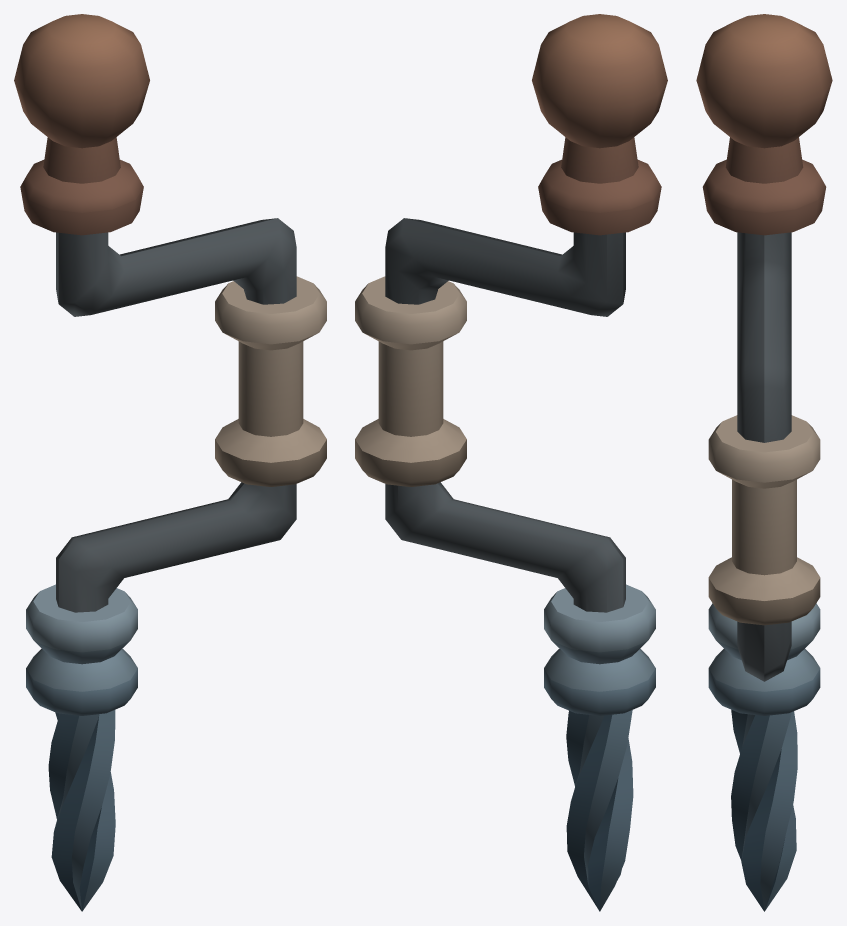
The model's file is handdrill.glb.
3 renders of one model, left to right at view 1: azimuth 30°, elevation 25°; view 2: azimuth 150°, elevation 25°; view 3: azimuth 270°, elevation 25°, orthographic.
Parts seen in each view (by area): view 1: handdrill; view 2: handdrill; view 3: handdrill.
Boxes of the visible parts, bbox=[...] form: handdrill: bbox=[14, 14, 326, 911]; handdrill: bbox=[355, 14, 667, 911]; handdrill: bbox=[696, 14, 832, 911].
Bounding box in the file's own units: 0.437 × 1.25 × 0.1739.
1 material, 1 textured.
